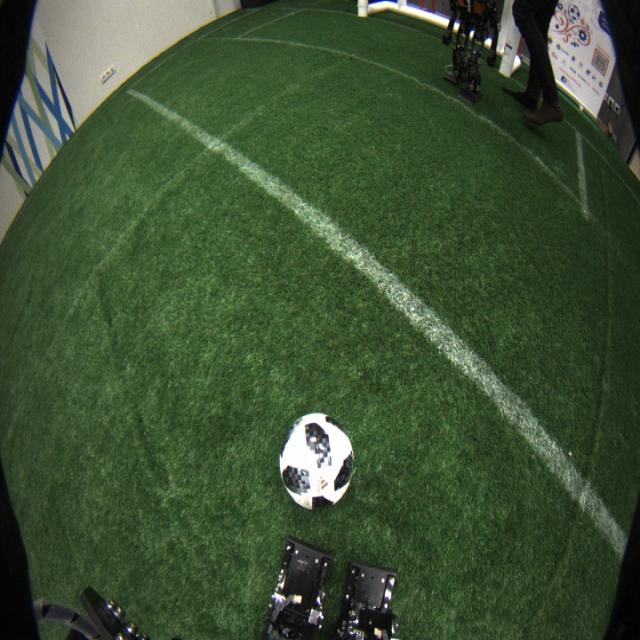ball: (278, 413, 354, 513)
goalpost: (496, 16, 521, 76), (357, 1, 368, 18)
